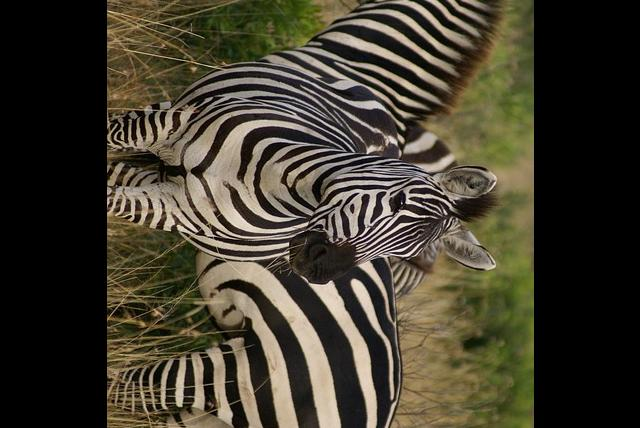Non_Gorille: (126, 0, 530, 428)
